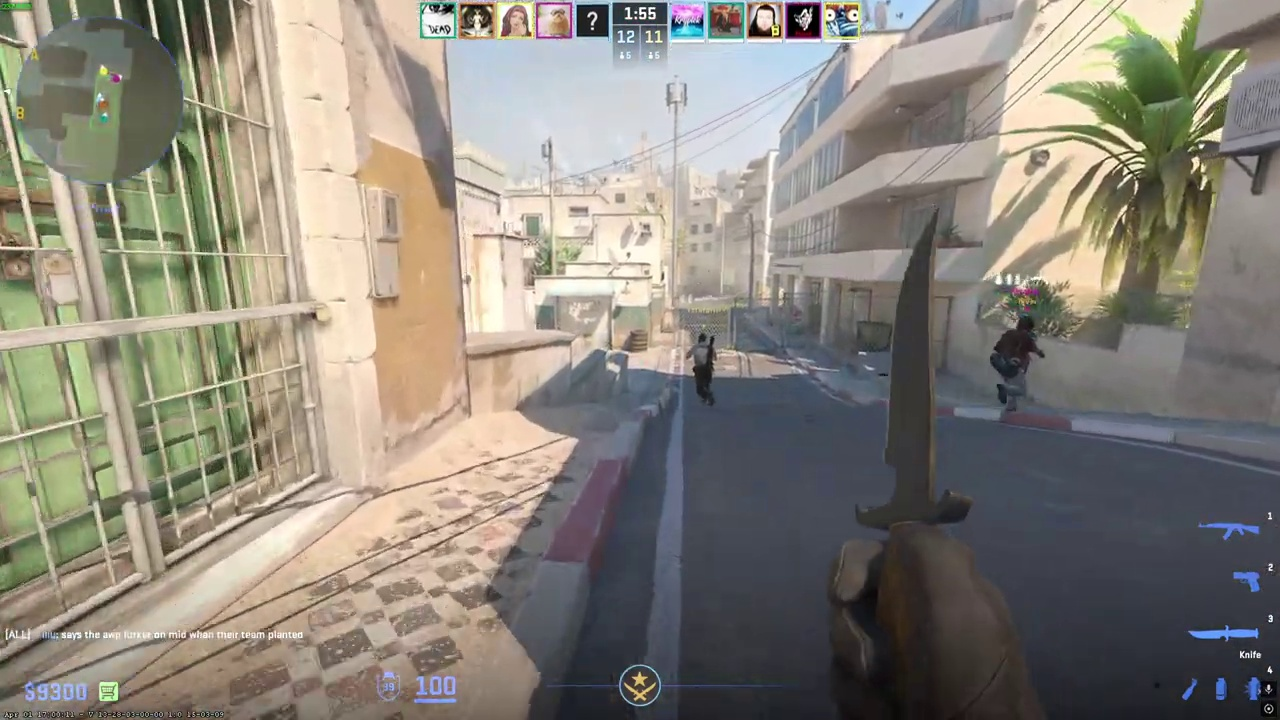Terrorist: (990, 316, 1040, 415), (690, 333, 717, 406)
